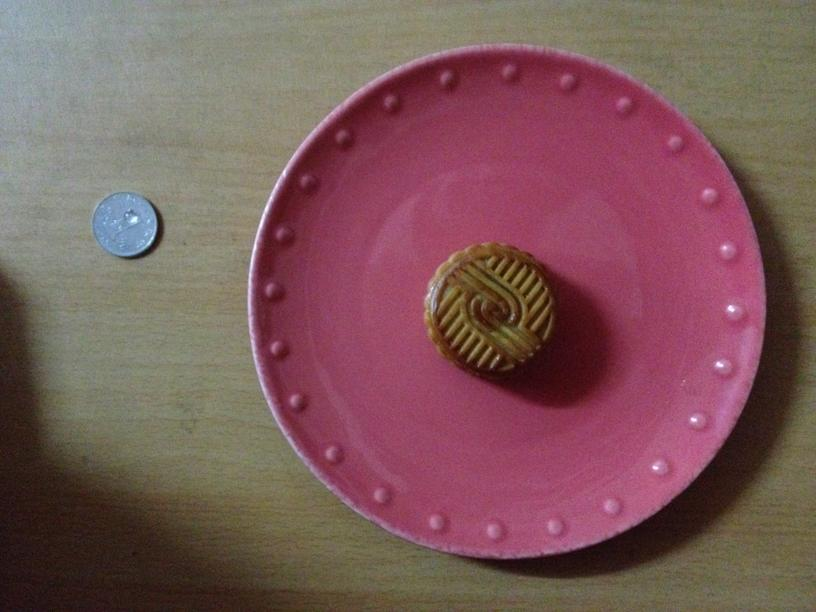coin: (88, 190, 159, 256)
mooncake: (420, 240, 560, 378)
